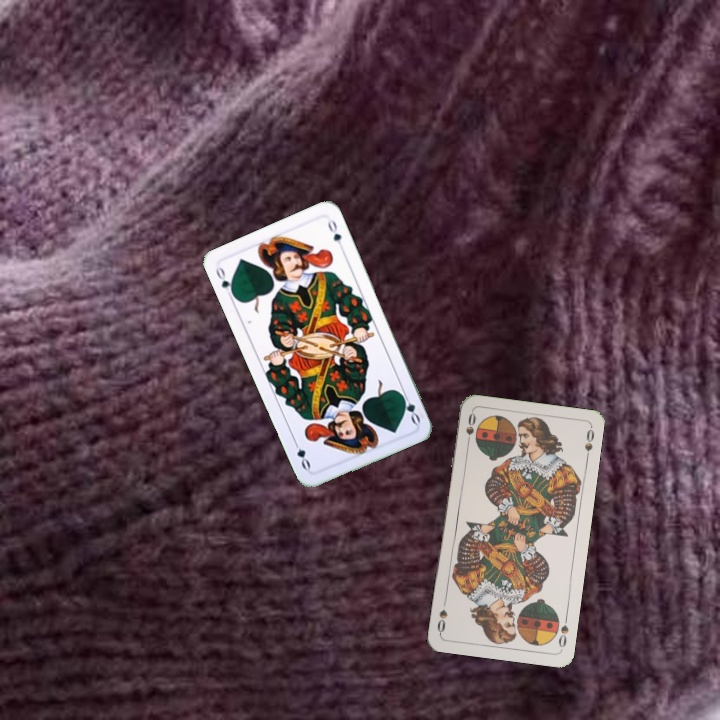GO: (396, 387, 423, 427), (211, 263, 237, 301)
SO: (554, 611, 571, 652), (462, 409, 478, 449)
